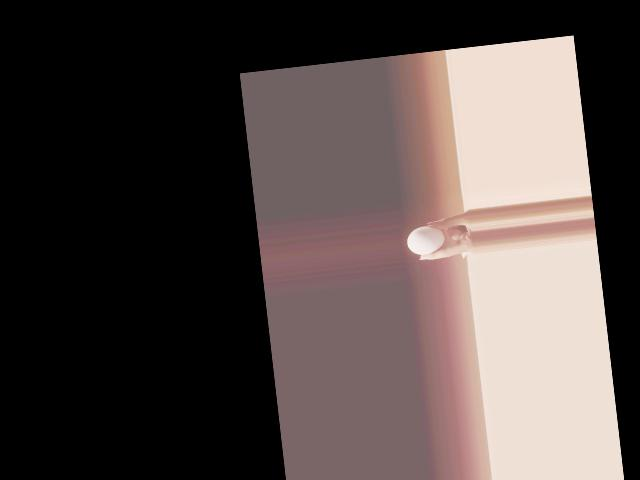egg: (406, 223, 446, 256)
